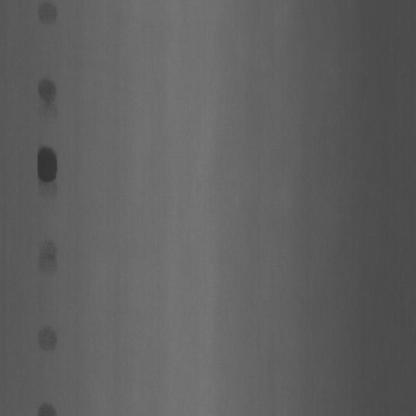oil_spot: (32, 143, 64, 187), (29, 0, 63, 39), (31, 315, 62, 356), (35, 61, 61, 106), (36, 235, 59, 275), (32, 388, 57, 415)
